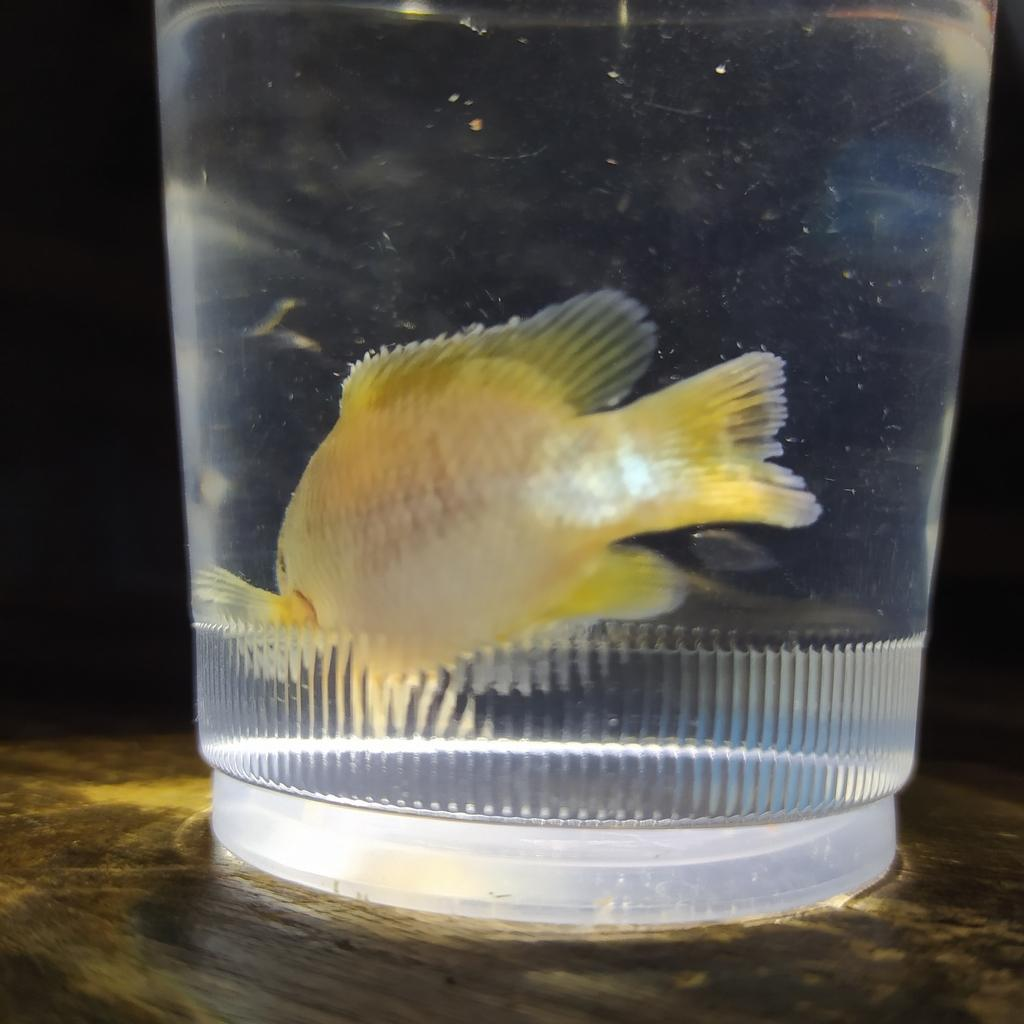Climbing Perch: (203, 290, 815, 698)
